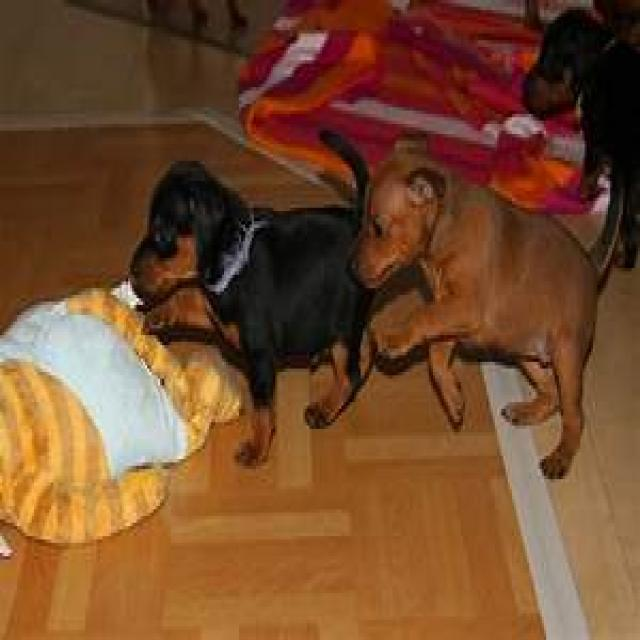dog: (318, 127, 602, 472), (128, 161, 373, 412)
